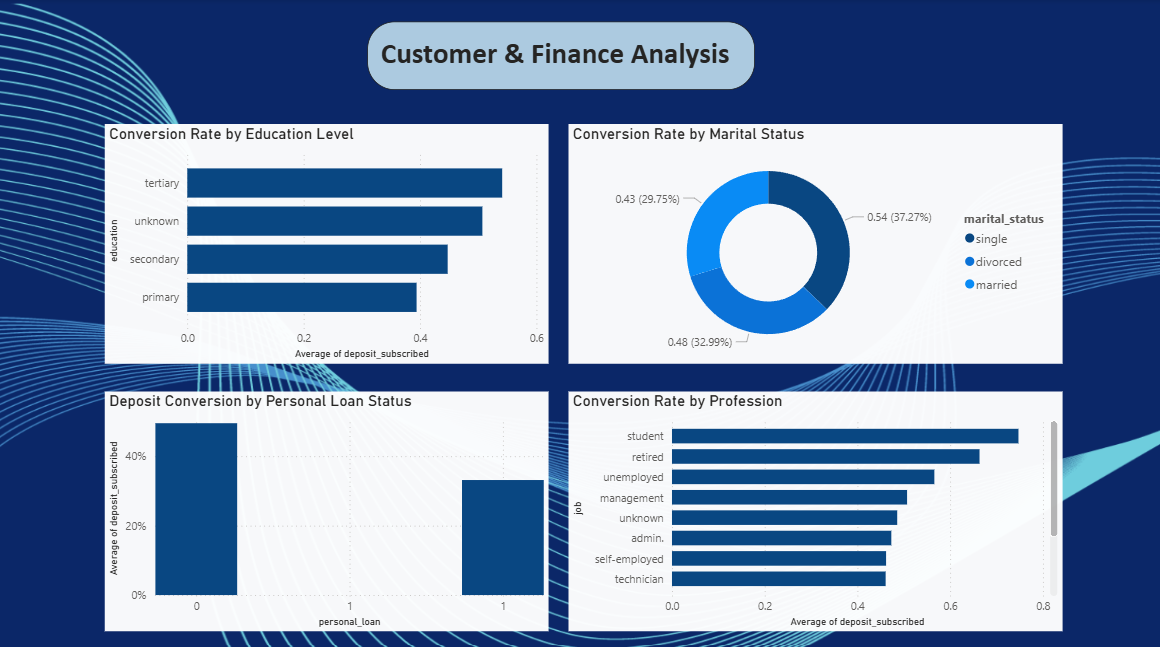

This screenshot's page, from the dashboard's own definition file:
{"tool":"powerbi","page":{"name":"Customer & Finance Analysis","canvas":[1280,720],"ordinal":1},"visuals":[{"type":"clusteredBarChart","title":"Conversion Rate by Education Level","fields":{"Category":["final_banking_report.education"],"Y":["Avg(final_banking_report.deposit_subscribed)"]},"box":[119.4,137.2,487.1,263.5],"z":0},{"type":"donutChart","title":"Conversion Rate by Marital Status","fields":{"Category":["final_banking_report.marital_status"],"Y":["Avg(final_banking_report.deposit_subscribed)"]},"box":[628.5,137.2,542,263.5],"z":1000},{"type":"clusteredColumnChart","title":"Deposit Conversion by Personal Loan Status","fields":{"Y":["Avg(final_banking_report.deposit_subscribed)"],"Category":["final_banking_report.personal_loan"]},"box":[119.4,430.9,487.1,263.5],"z":2000},{"type":"clusteredBarChart","title":"Conversion Rate by Profession","fields":{"Category":["final_banking_report.job"],"Y":["Avg(final_banking_report.deposit_subscribed)"]},"box":[628.5,430.9,542,263.5],"z":3000},{"type":"textbox","box":[407.5,24.7,425.4,75.5],"z":4000}]}

Visuals, with their boxes in screenshot pixels (x1, y1, x2, y2), scaled from the page's 1280x720 canvas onto the 1160x647 screenshot:
"Conversion Rate by Education Level" clusteredBarChart: 108:123:550:360
"Conversion Rate by Marital Status" donutChart: 570:123:1061:360
"Deposit Conversion by Personal Loan Status" clusteredColumnChart: 108:387:550:624
"Conversion Rate by Profession" clusteredBarChart: 570:387:1061:624
textbox: 369:22:755:90
